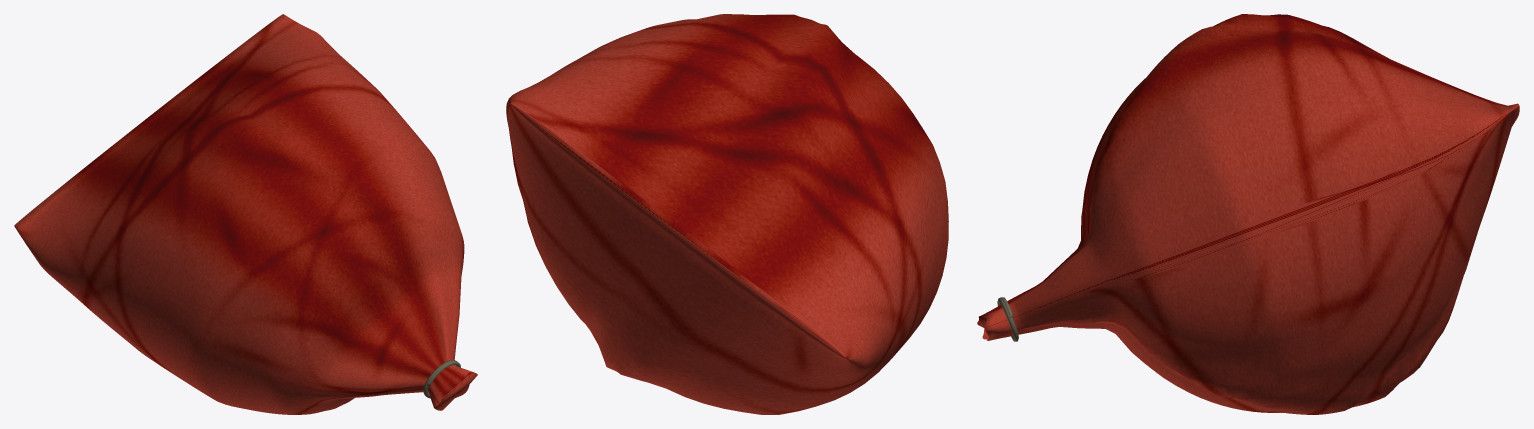
Rendered from peach_01_032.glb.
The picture shows the model from 3 angles, left to right: view 1: azimuth 30°, elevation 25°; view 2: azimuth 150°, elevation 25°; view 3: azimuth 270°, elevation 25°; orthographic projection. The views are drawn at different scales.
Visible parts, largest first — view 1: export_Tree01/shoot3_4_1/bag; view 2: export_Tree01/shoot3_4_1/bag; view 3: export_Tree01/shoot3_4_1/bag.
Boxes of the visible parts, x1,y1,x2,y2 form: export_Tree01/shoot3_4_1/bag: [14, 14, 477, 414]; export_Tree01/shoot3_4_1/bag: [506, 14, 948, 414]; export_Tree01/shoot3_4_1/bag: [977, 14, 1519, 414].
Bounding box in the file's own units: 0.1046 × 0.0916 × 0.1236.
Materials: 4 (1 with a texture image).
